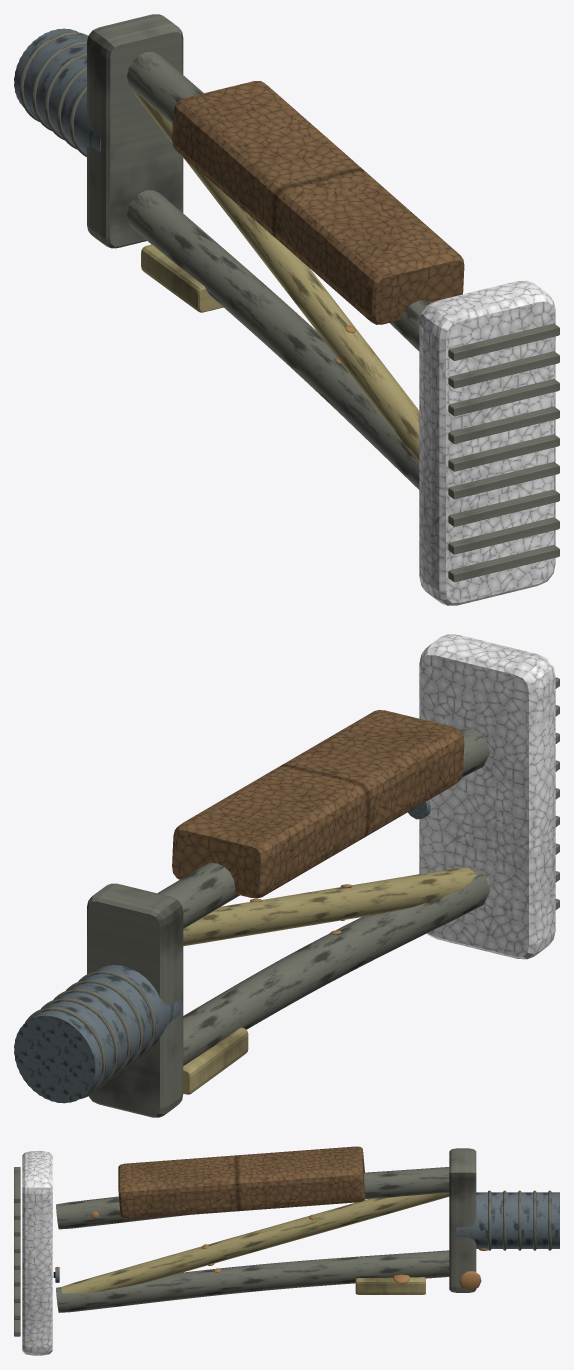
3 views of the same model, one above another, from view 1: azimuth 30°, elevation 25°; view 2: azimuth 150°, elevation 25°; view 3: azimuth 270°, elevation 25° (orthographic). The views are drawn at different scales.
Visible parts, largest first — view 1: machined receiver, saddle leather, vulcanized grip, edge hardware, brushed steel; view 2: machined receiver, vulcanized grip, saddle leather, brushed steel, edge hardware; view 3: machined receiver, saddle leather, edge hardware, vulcanized grip, brushed steel, peened pin.
Part boxes in pixels (x1=…): machined receiver: x1=19, y1=14, x2=559, y2=582; saddle leather: x1=172, y1=81, x2=464, y2=324; vulcanized grip: x1=419, y1=280, x2=555, y2=605; edge hardware: x1=132, y1=90, x2=419, y2=461; brushed steel: x1=14, y1=28, x2=100, y2=153; machined receiver: x1=25, y1=677, x2=559, y2=1117; vulcanized grip: x1=419, y1=634, x2=555, y2=959; saddle leather: x1=172, y1=710, x2=464, y2=898; brushed steel: x1=14, y1=800, x2=430, y2=1103; edge hardware: x1=183, y1=867, x2=477, y2=1094; machined receiver: x1=14, y1=1148, x2=551, y2=1336; saddle leather: x1=118, y1=1146, x2=365, y2=1219; edge hardware: x1=61, y1=1192, x2=449, y2=1294; vulcanized grip: x1=22, y1=1151, x2=52, y2=1355; brushed steel: x1=55, y1=1192, x2=559, y2=1282; peened pin: x1=91, y1=1211, x2=481, y2=1290.
Bounding box in the file's own units: 0.0518 × 0.1215 × 0.326.
7 materials, 5 textured.
